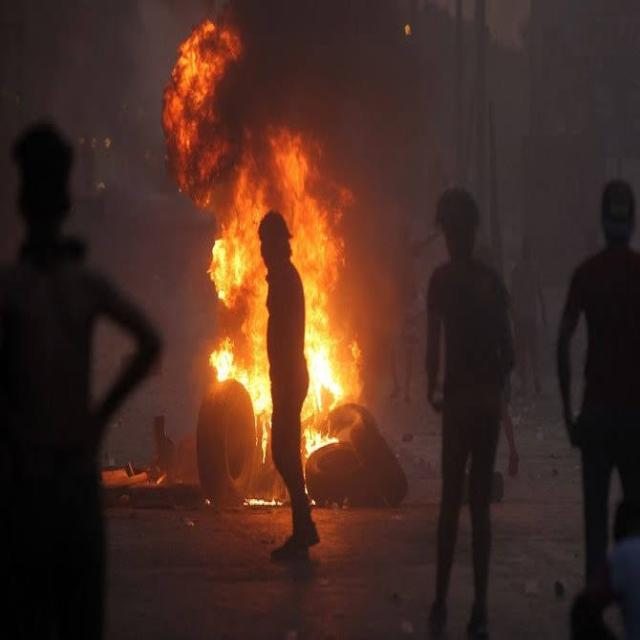fire: (160, 0, 244, 209), (245, 117, 351, 210), (281, 207, 346, 330), (303, 329, 361, 456), (210, 312, 272, 420), (208, 208, 268, 313)
